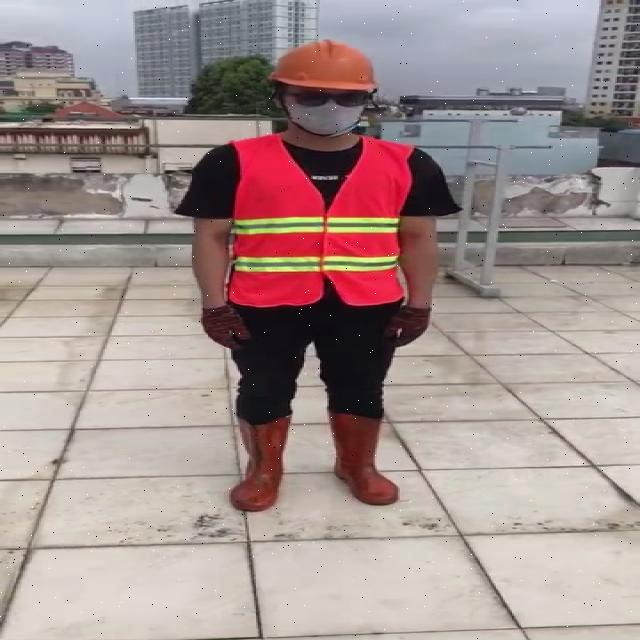Hard_hat: (266, 36, 389, 104)
Person: (173, 38, 464, 543)
Vest: (222, 132, 406, 314)
